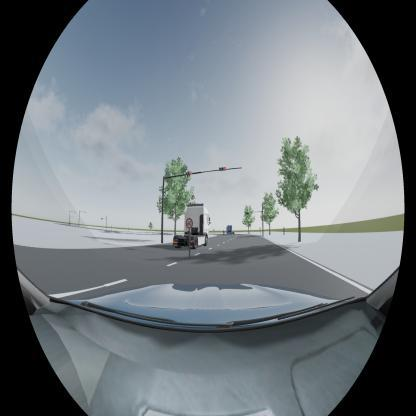Green Light: (245, 210, 250, 216)
Red Light: (184, 170, 192, 177), (218, 166, 226, 172)
